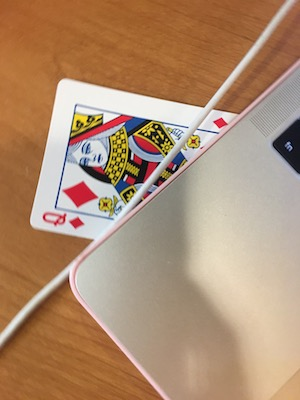QueenOfDiamonds: (23, 72, 244, 247)
